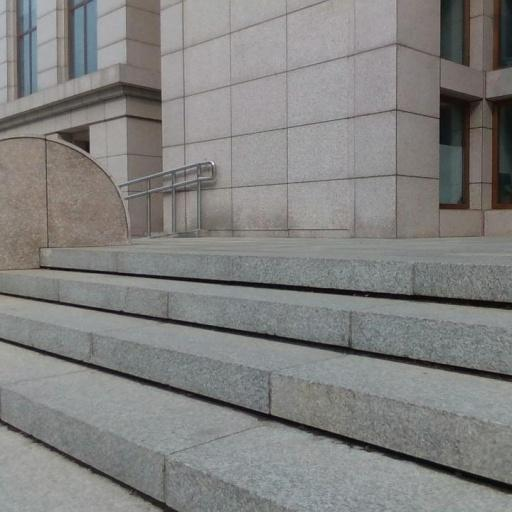stairs: (0, 242, 511, 511)
